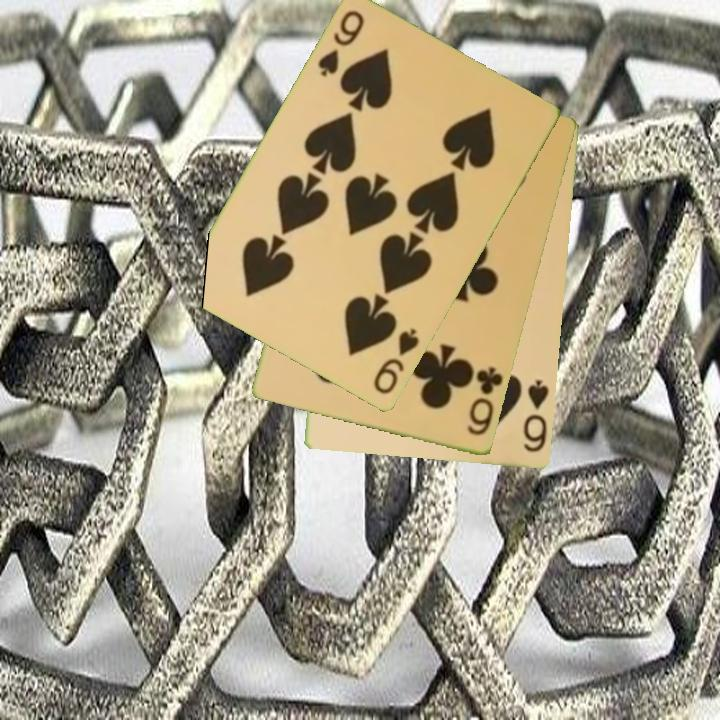6c: (464, 363, 506, 439)
6s: (520, 377, 552, 456)
9s: (314, 7, 368, 81), (370, 325, 423, 398)
